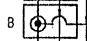Single Phase Tap-Off Unit: (20, 2, 79, 41)
